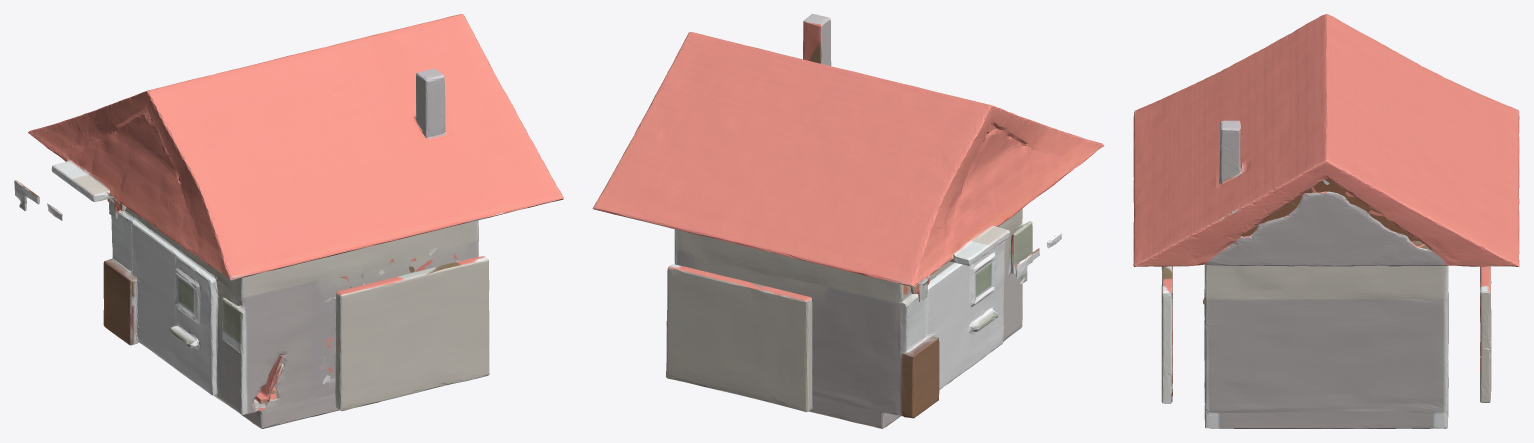
File: paint-batch-clinic.glb
3 renders of one model, left to right at view 1: azimuth 30°, elevation 25°; view 2: azimuth 150°, elevation 25°; view 3: azimuth 270°, elevation 25°, orthographic. The views are drawn at different scales.
Parts seen in each view (by area): view 1: geometry_0; view 2: geometry_0; view 3: geometry_0.
Part boxes in pixels (x1,y1,x2,y2): geometry_0: (14, 14, 563, 428); geometry_0: (592, 14, 1104, 428); geometry_0: (1133, 14, 1519, 428).
Bounding box in the file's own units: 2 × 1.47 × 1.76.
Materials: 1 (1 with a texture image).
